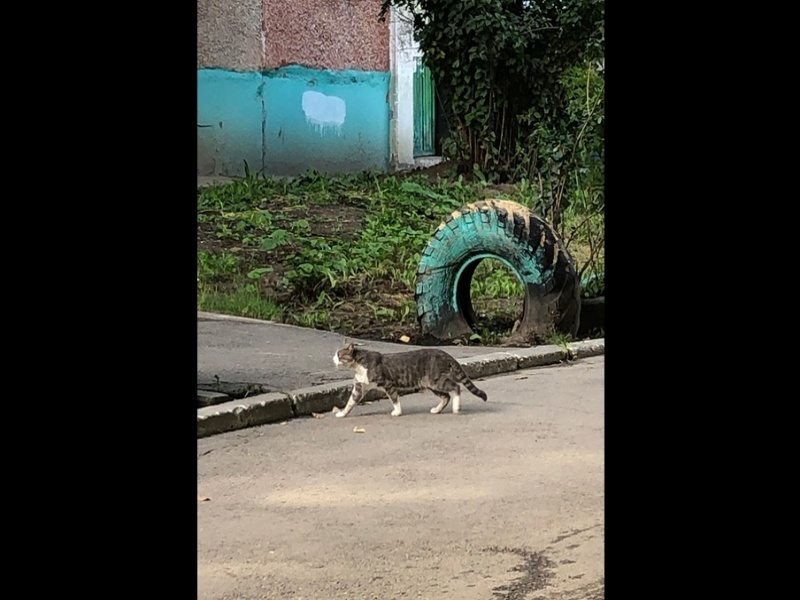cat: (324, 339, 491, 416)
